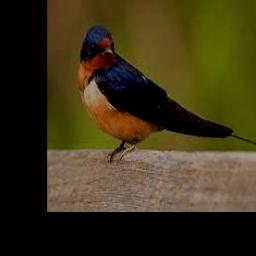Swallow: (77, 26, 256, 164)
